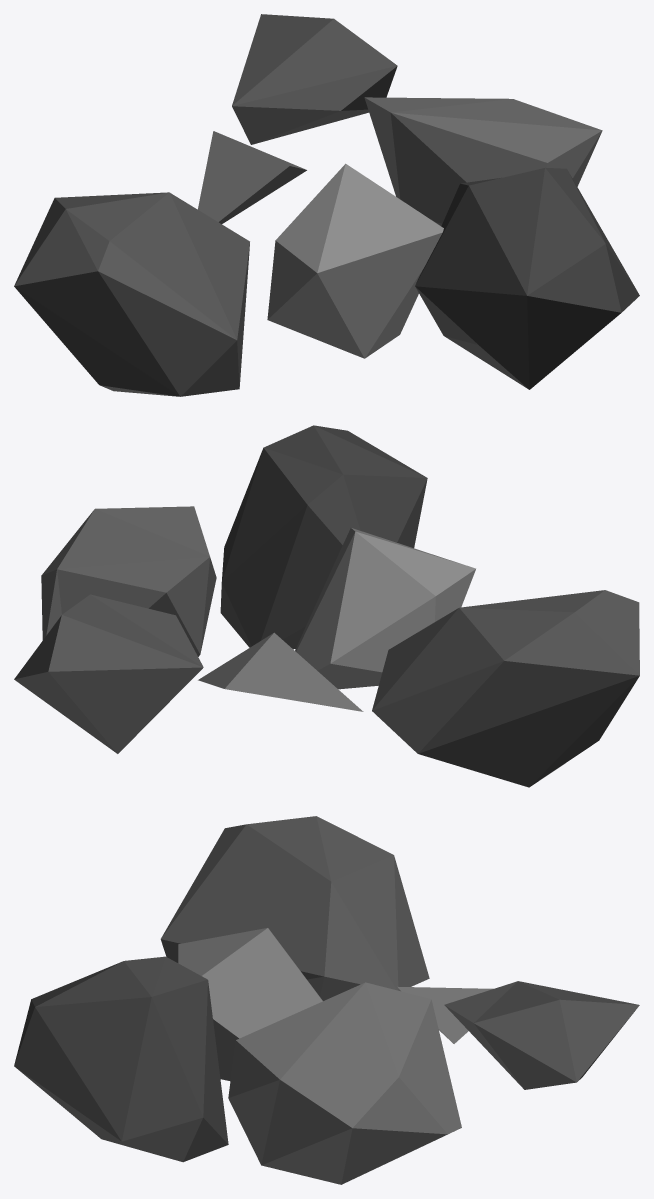
The model's file is stoun_props2.fbx.
3 views of the same model, one above another, from view 1: azimuth 30°, elevation 25°; view 2: azimuth 150°, elevation 25°; view 3: azimuth 270°, elevation 25° (orthographic). The views are drawn at different scales.
Parts seen in each view (by area): view 1: Object.008; view 2: Object.008; view 3: Object.008.
Boxes of the visible parts, x1=… form: Object.008: x1=14, y1=14, x2=639, y2=396; Object.008: x1=14, y1=425, x2=639, y2=787; Object.008: x1=14, y1=816, x2=639, y2=1184.
Bounding box in the file's own units: 56.7 × 20.06 × 56.13.
